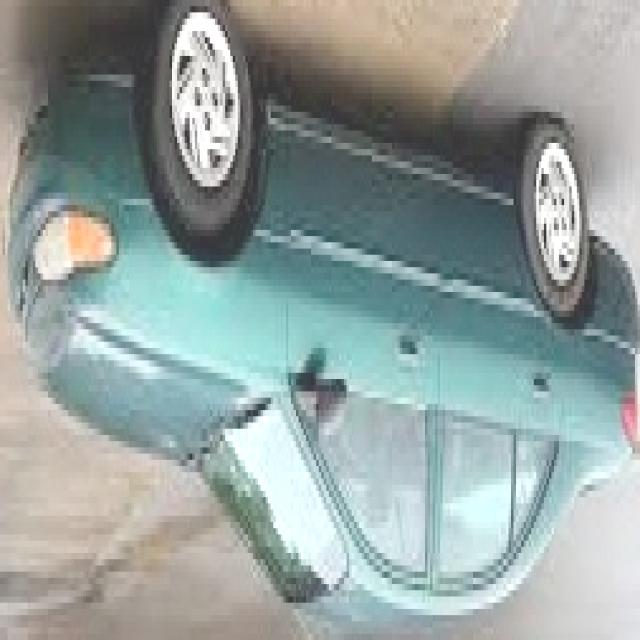green: (0, 0, 638, 624)
